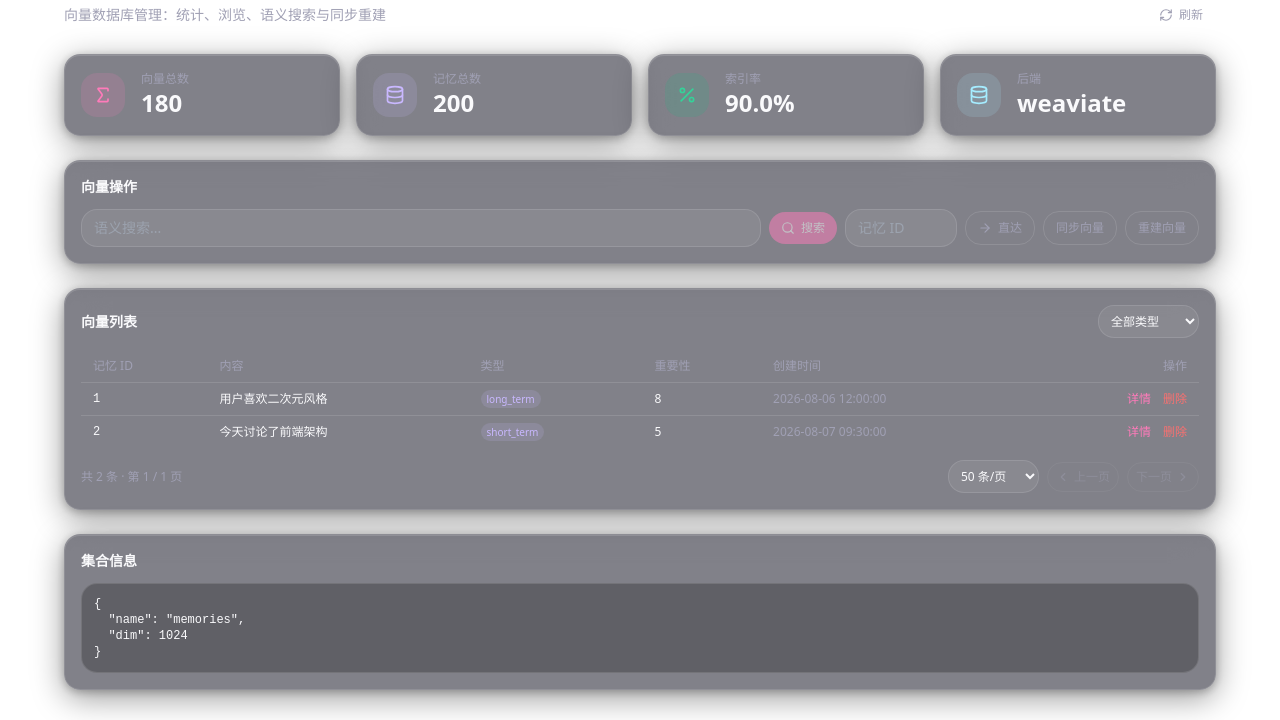
it: VectorDataPage 向量数据页 › 记忆 ID 直达打开详情弹窗
Expected: the text "用户喜欢二次元风格" is shown, [208,382,469,416]
Type "2" into the field labelled "记忆 ID" at point(901, 228), box [845,209,957,247]
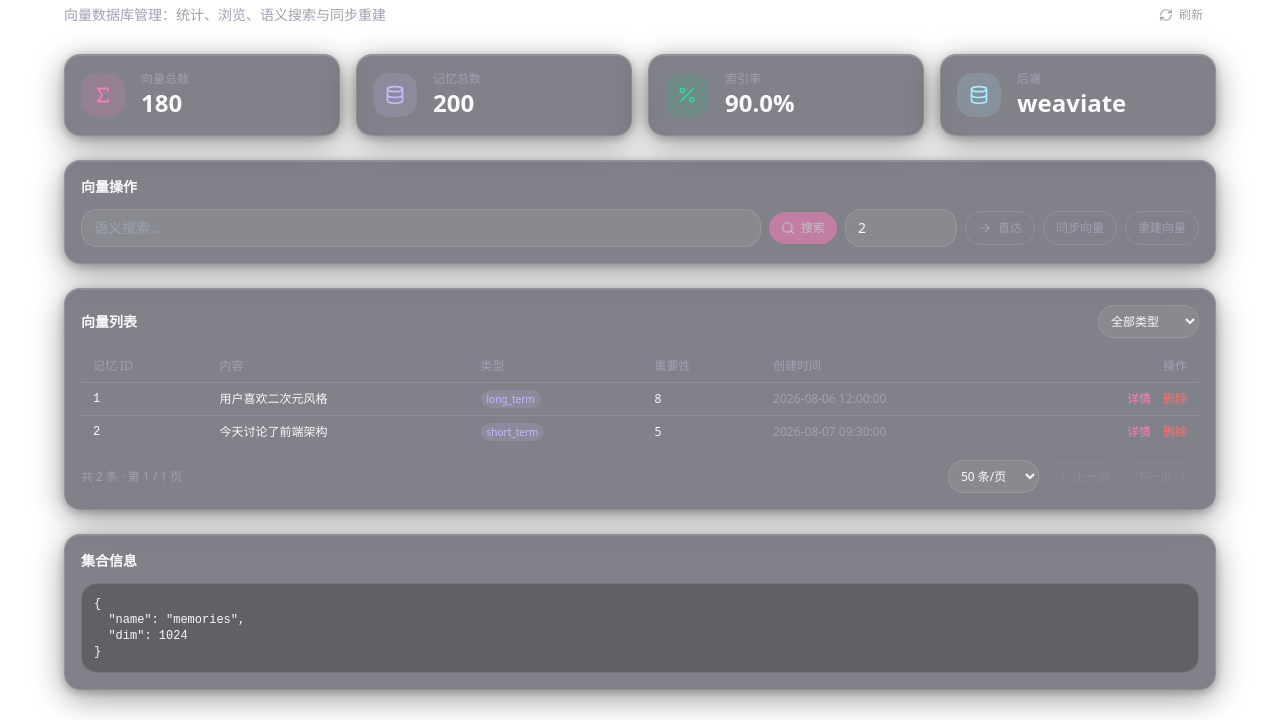
Click the button "直达" at point(1000, 228), box [965,211,1035,245]
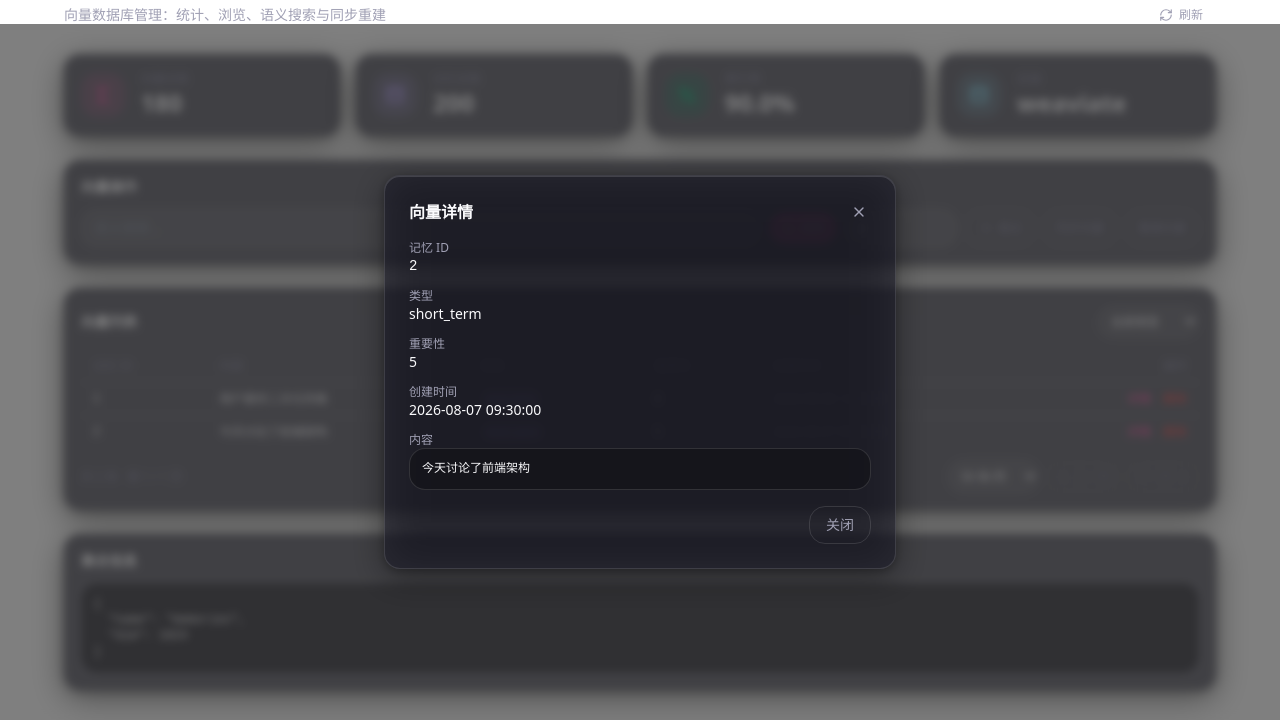
Now the heading "向量详情" is shown, box [409,200,473,224]
